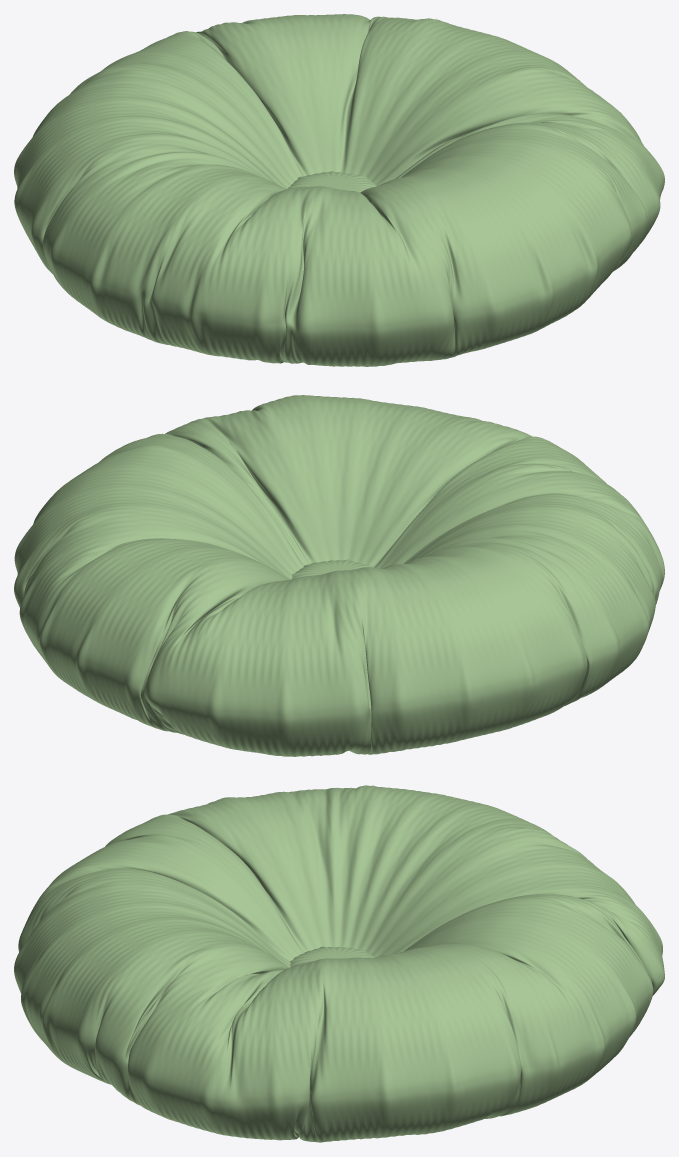
The model's file is floor_mat.fbx.
The picture shows the model from 3 angles, top to bottom: view 1: azimuth 30°, elevation 25°; view 2: azimuth 150°, elevation 25°; view 3: azimuth 270°, elevation 25°; orthographic projection.
Parts seen in each view (by area): view 1: mat; view 2: mat; view 3: mat.
Part boxes in pixels (left/top/right/bottom): mat: left=14, top=14, right=664, bottom=366; mat: left=14, top=395, right=664, bottom=756; mat: left=14, top=785, right=664, bottom=1142.
Bounding box in the file's own units: 171 × 43.55 × 173.
